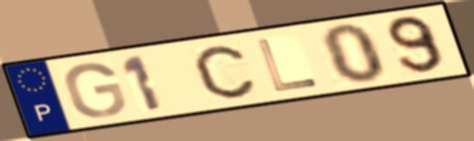0: (316, 22, 391, 85)
1: (121, 53, 167, 112)
9: (385, 13, 447, 78)
C: (191, 43, 259, 100)
G: (61, 60, 129, 120)
L: (253, 37, 322, 94)
